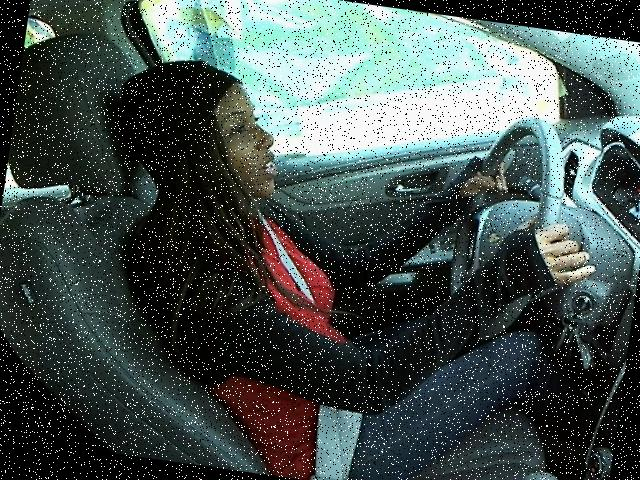c0 - Safe Driving: (79, 40, 621, 444)
